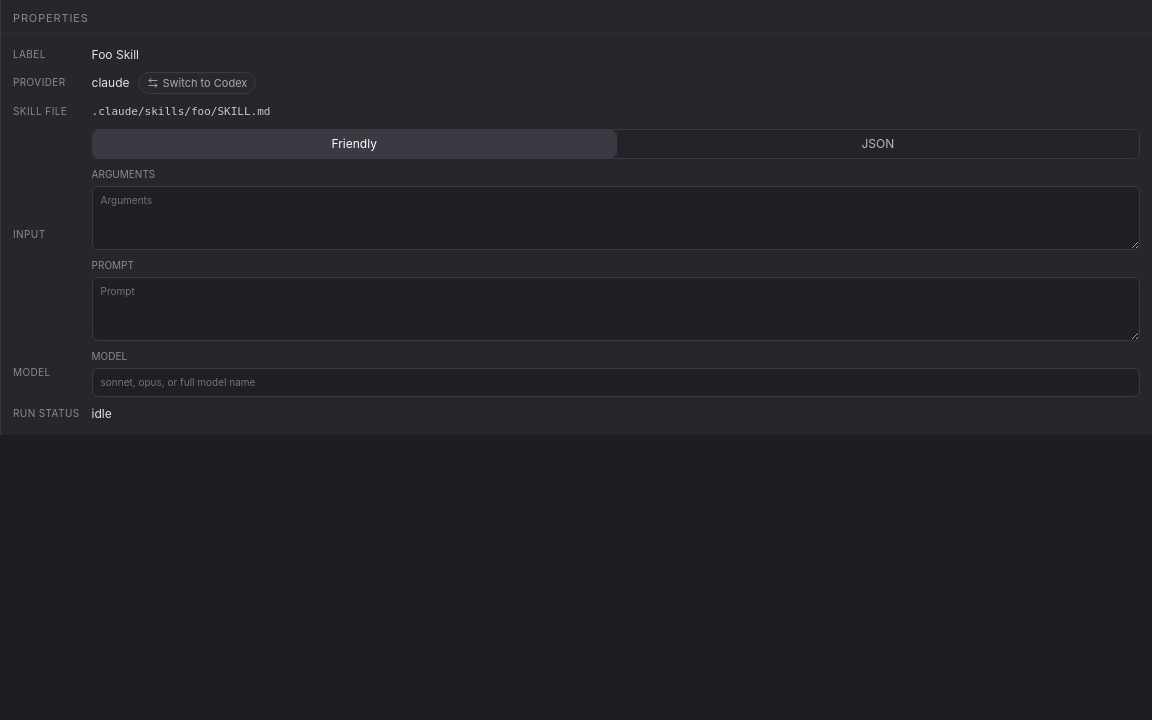
Scenario: PropertiesPanel › keeps the active node unchanged when provider change fails
Click the button with test id "node-provider-change": (197, 83) [138,72,256,94]
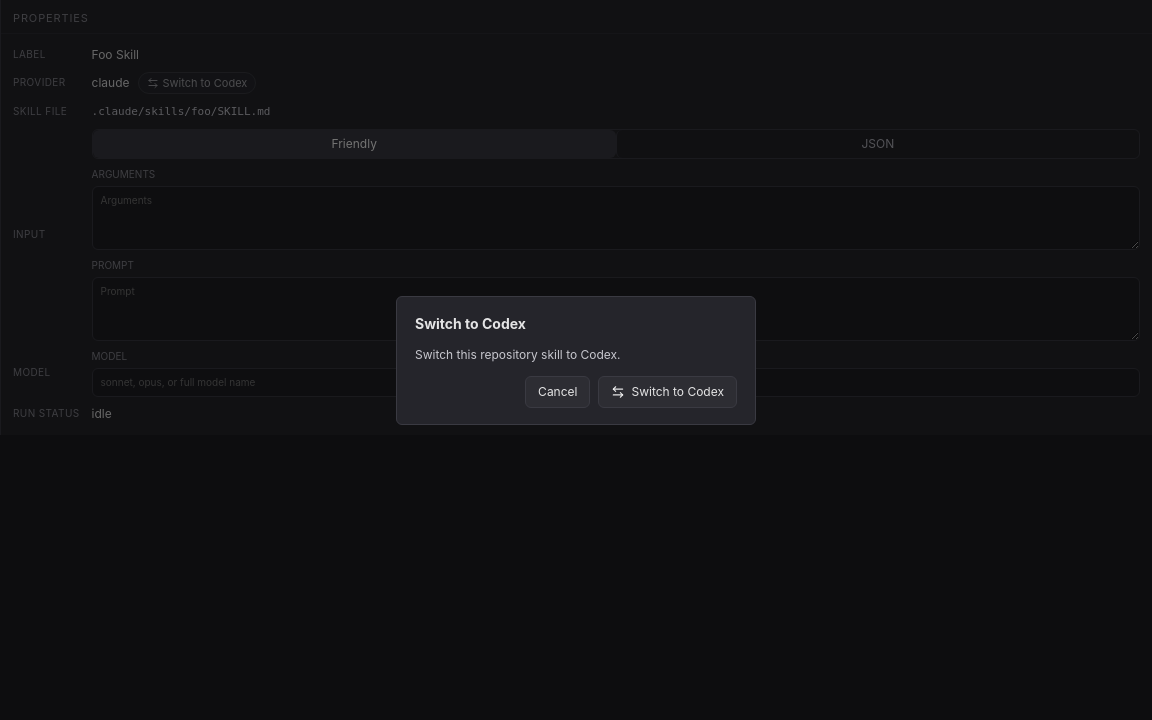
Click the button with test id "provider-change-confirm-change": (668, 392) [598,376,737,408]
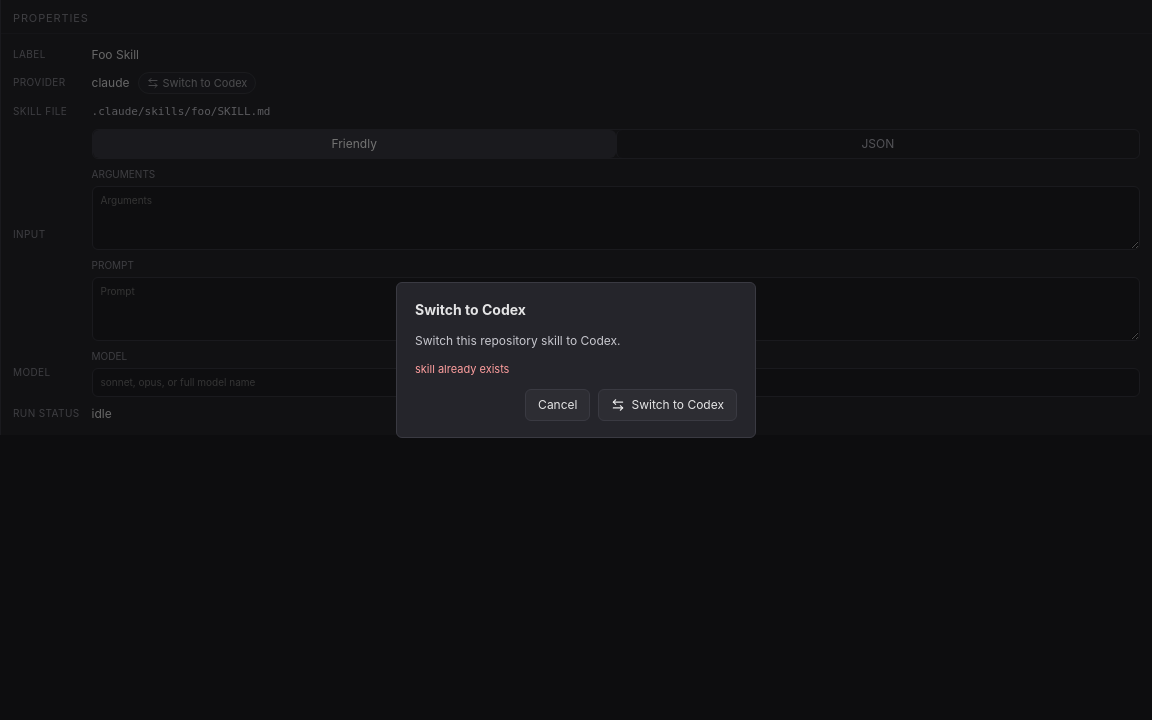
Now the message reads "skill already exists", box [415,362,509,376]
